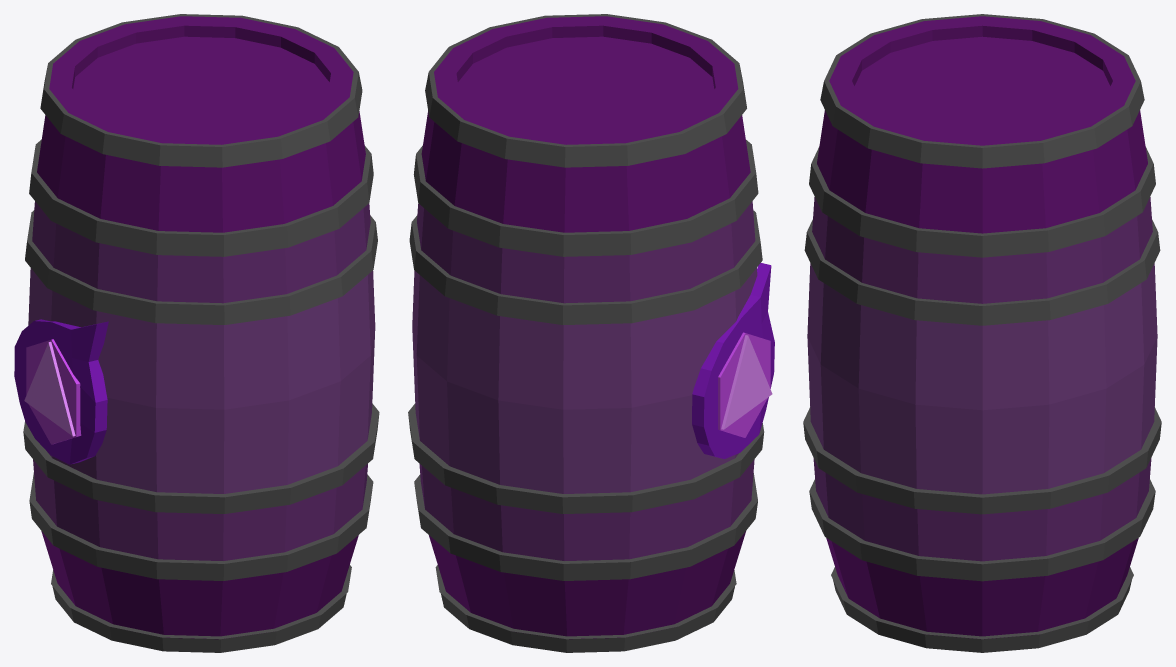
Rendered from voidBarrel.fbx.
3 renders of one model, left to right at view 1: azimuth 30°, elevation 25°; view 2: azimuth 150°, elevation 25°; view 3: azimuth 270°, elevation 25°, orthographic.
Visible parts, largest first — view 1: Cylinder, Cube, Cylinder.001, Cylinder.002; view 2: Cylinder, Cube, Cylinder.002, Cylinder.001; view 3: Cylinder.
Boxes of the visible parts, x1=… form: Cylinder: x1=23, y1=14, x2=379, y2=652; Cube: x1=14, y1=319, x2=108, y2=464; Cylinder.001: x1=26, y1=339, x2=81, y2=444; Cylinder.002: x1=24, y1=341, x2=75, y2=436; Cylinder: x1=408, y1=14, x2=764, y2=652; Cube: x1=692, y1=263, x2=774, y2=458; Cylinder.002: x1=721, y1=335, x2=772, y2=429; Cylinder.001: x1=718, y1=332, x2=770, y2=437; Cylinder: x1=803, y1=14, x2=1161, y2=652.
Size of the model in its own units: 210 by 328 by 209.
